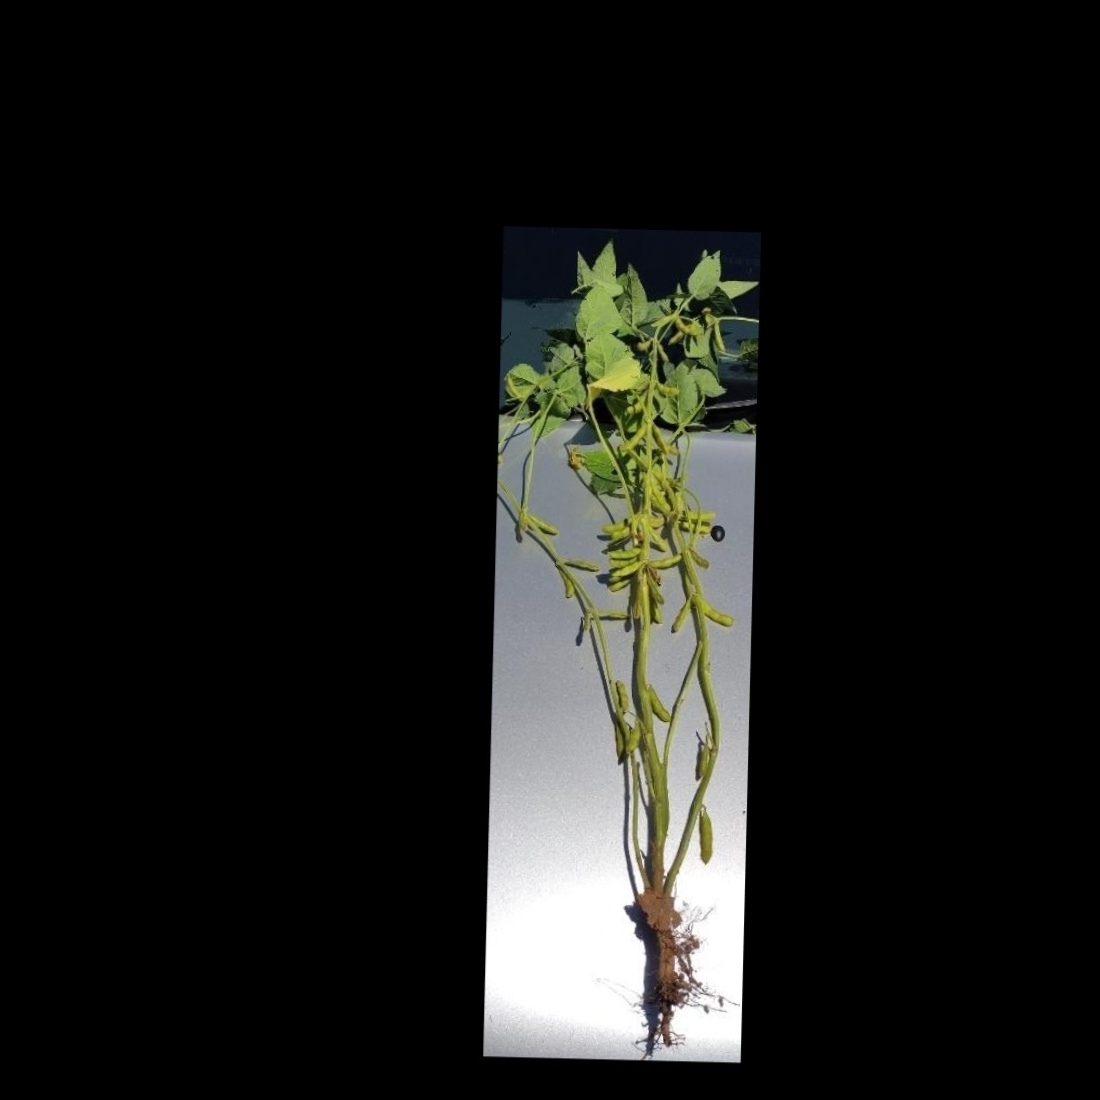pod: (692, 808, 718, 872), (665, 588, 696, 638), (639, 517, 671, 557), (618, 417, 651, 456), (648, 681, 675, 724), (703, 599, 737, 631), (561, 555, 605, 574), (643, 552, 683, 571), (609, 559, 646, 580), (613, 675, 632, 714), (603, 544, 643, 561), (653, 378, 682, 399)
soy: (494, 264, 742, 1025)
